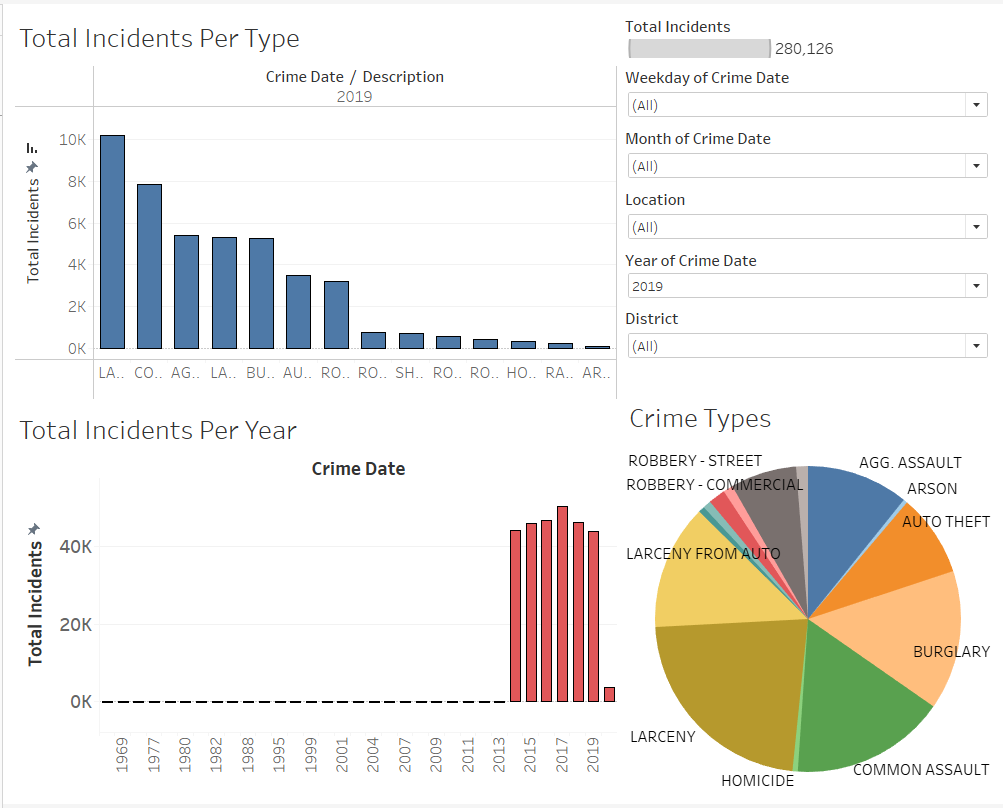

What the dashboard file says about the page in this screenshot:
{"tool":"tableau","page":{"name":"Dashboard 1","canvas":[1000,800],"ordinal":0},"visuals":[{"type":"worksheet","title":"Total Incidents Per Type","mark":"Bar","rows":["Total Incidents"],"cols":["CrimeDate","Description"],"box":[8,8,610,392]},{"type":"legend","title":"Crime Types","param":"[federated.06ntrgy1wy61vm17ynzcx1xkoo4e].[sum:Total Incidents:qk]","box":[618,8,374,51]},{"type":"filter","title":"Crime Types","param":"[federated.06ntrgy1wy61vm17ynzcx1xkoo4e].[wd:CrimeDate:ok]","box":[618,59,374,61]},{"type":"filter","title":"Crime Types","param":"[federated.06ntrgy1wy61vm17ynzcx1xkoo4e].[mn:CrimeDate:ok]","box":[618,120,374,61]},{"type":"filter","title":"Crime Types","param":"[federated.06ntrgy1wy61vm17ynzcx1xkoo4e].[none:Location:nk]","box":[618,181,374,61]},{"type":"filter","title":"Total Incidents Per Type","param":"[federated.06ntrgy1wy61vm17ynzcx1xkoo4e].[yr:CrimeDate:ok]","box":[618,242,374,58]},{"type":"filter","title":"Crime Types","param":"[federated.06ntrgy1wy61vm17ynzcx1xkoo4e].[none:District:nk]","box":[618,300,374,61]},{"type":"worksheet","title":"Crime Types","mark":"Pie","box":[618,388,374,404]},{"type":"worksheet","title":"Total Incidents Per Year","mark":"Bar","rows":["Total Incidents"],"cols":["CrimeDate"],"box":[8,400,610,392]}]}

Visuals, with their boxes in screenshot pixels (x1, y1, x2, y2), scaled from the page's 1000x800 canvas onto the 1003x808 screenshot:
"Total Incidents Per Type" worksheet (Bar marks): (left=8, top=8, right=620, bottom=404)
"Crime Types" legend: (left=620, top=8, right=995, bottom=60)
"Crime Types" filter: (left=620, top=60, right=995, bottom=121)
"Crime Types" filter: (left=620, top=121, right=995, bottom=183)
"Crime Types" filter: (left=620, top=183, right=995, bottom=244)
"Total Incidents Per Type" filter: (left=620, top=244, right=995, bottom=303)
"Crime Types" filter: (left=620, top=303, right=995, bottom=365)
"Crime Types" worksheet (Pie marks): (left=620, top=392, right=995, bottom=800)
"Total Incidents Per Year" worksheet (Bar marks): (left=8, top=404, right=620, bottom=800)
